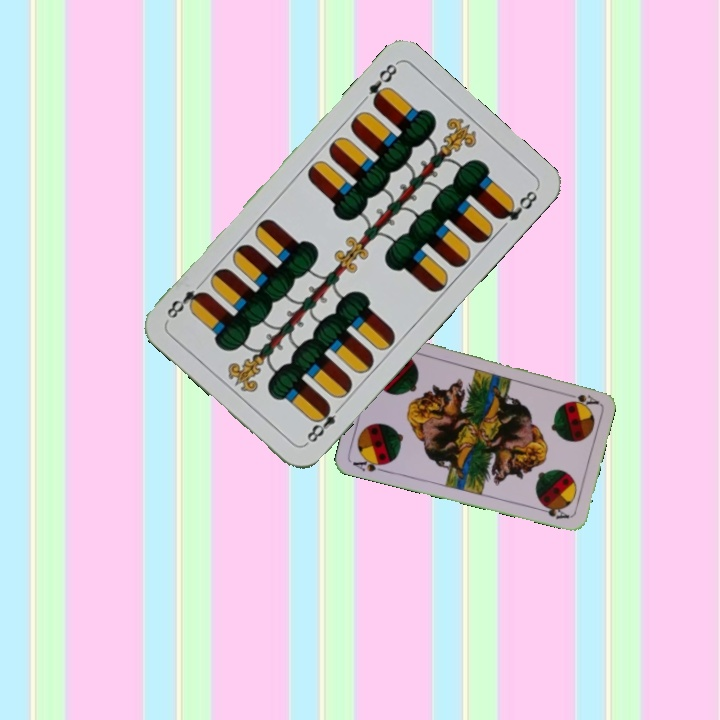E8: (301, 399, 346, 448), (365, 59, 400, 109)
SA: (348, 454, 390, 475), (560, 389, 600, 407)
